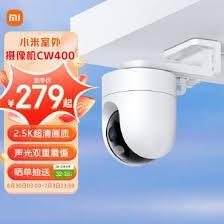maru: (100, 64, 181, 170)
